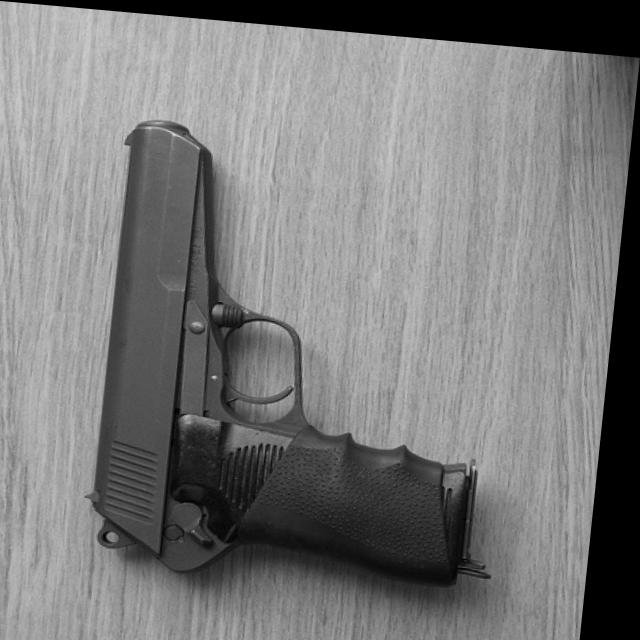handgun: (90, 109, 511, 590)
